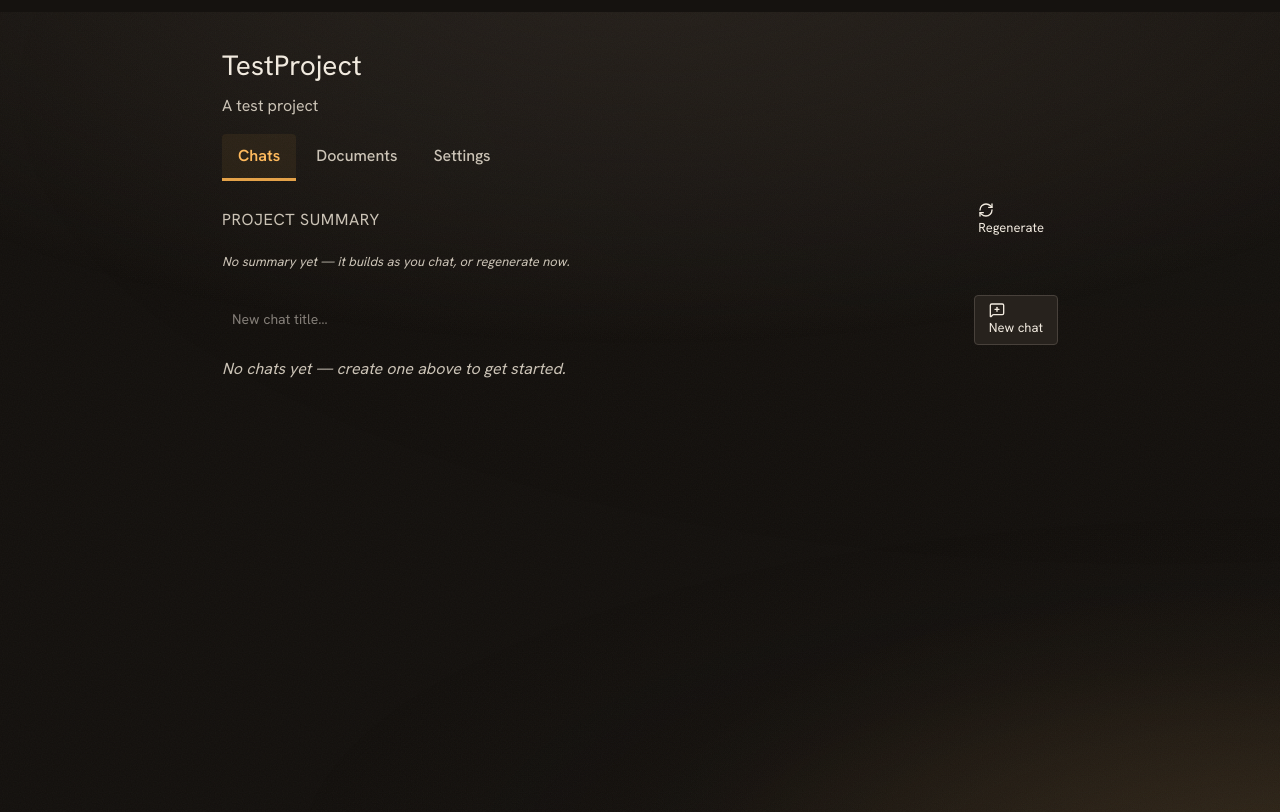
Test: Project page › Settings tab renders the default-model picker and RAG threshold input
This screenshot has width=1280, height=812.
Click the tab with test id "project-tab-settings". click: coordinates (462, 158)
box: [418,134,507,181]
(page scrolled)
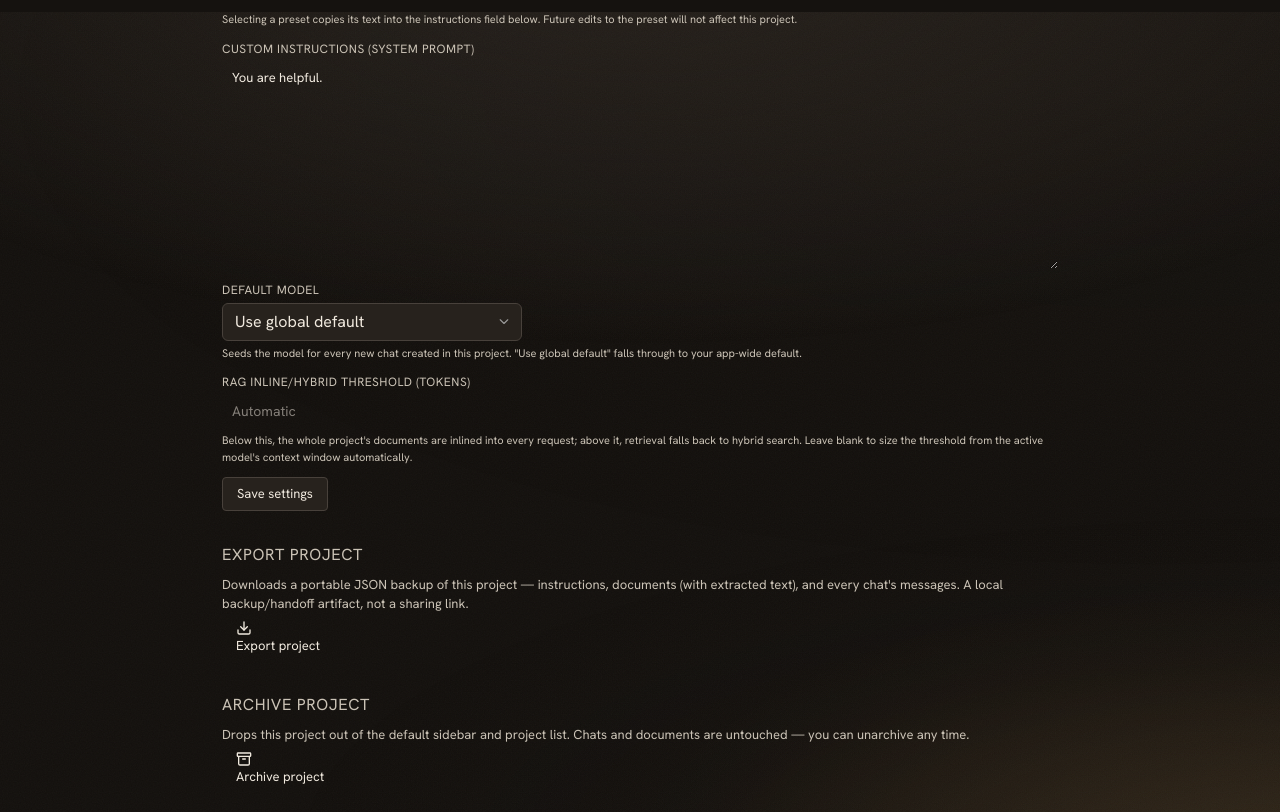
Expected: the dropdown with test id "project-settings-default-model" is shown, [222,302,522,340]
Expected: the number field with test id "project-settings-rag-threshold" is shown, [222,395,1058,428]
